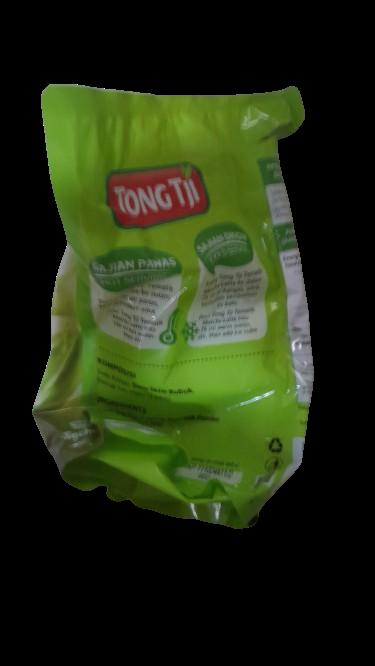Plastik: (30, 73, 337, 533)
